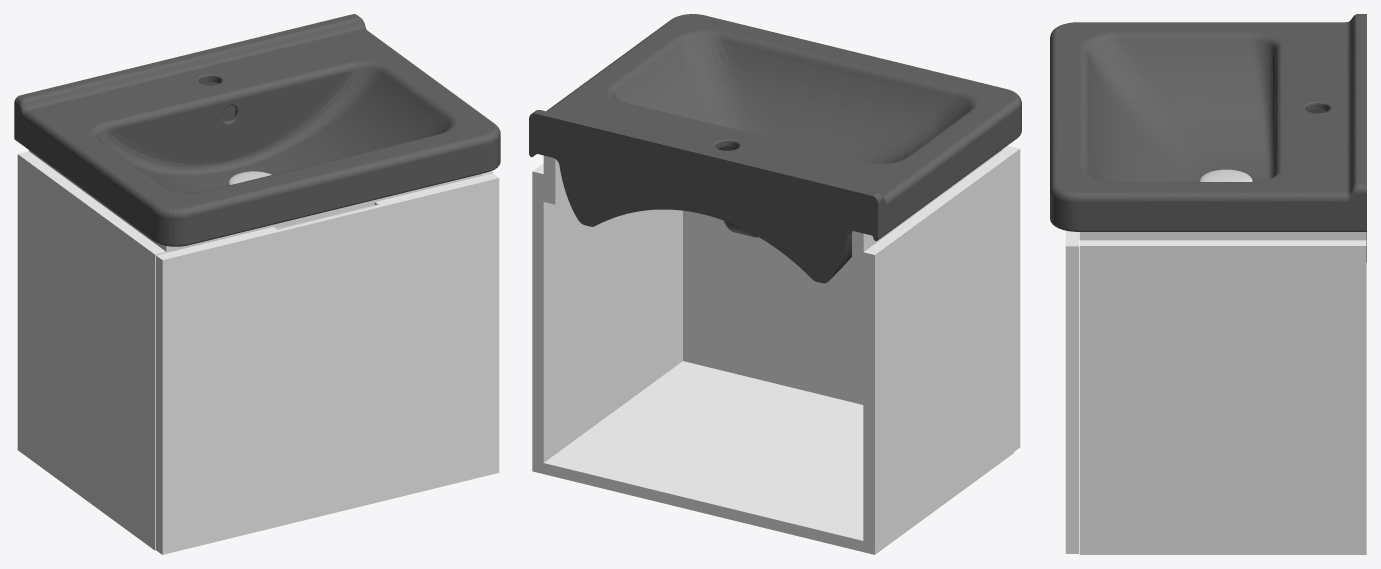
The model's file is AEC_48025.glb.
3 views of the same model, side by side, from view 1: azimuth 30°, elevation 25°; view 2: azimuth 150°, elevation 25°; view 3: azimuth 270°, elevation 25° (orthographic). The views are drawn at different scales.
Visible parts, largest first — view 1: 0; view 2: 0; view 3: 0.
Part boxes in pixels (x1,y1,x2,y2): 0: [14, 14, 500, 554]; 0: [529, 14, 1021, 554]; 0: [1050, 14, 1366, 554].
Bounding box in the file's own units: 0.55 × 0.5401 × 0.42.
Materials: 1 (1 with a texture image).
